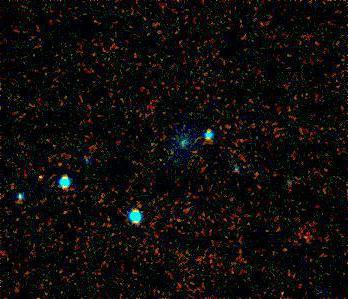star: (22, 162, 52, 192)
